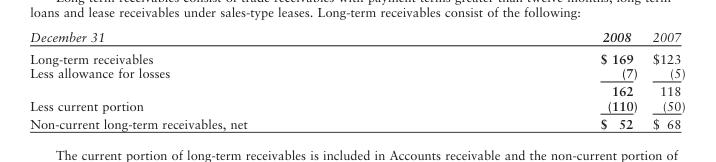table: (29, 28, 684, 130)
table column: (29, 28, 423, 130), (423, 28, 644, 130), (644, 28, 684, 130)
table column header: (29, 28, 684, 47)
table row: (29, 28, 684, 47), (29, 47, 684, 65), (29, 113, 684, 130), (29, 65, 684, 81), (29, 81, 684, 97), (29, 97, 684, 113)
